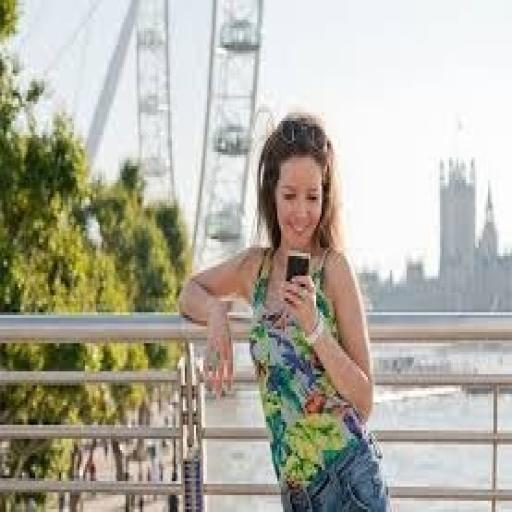texting: (176, 107, 394, 509)
